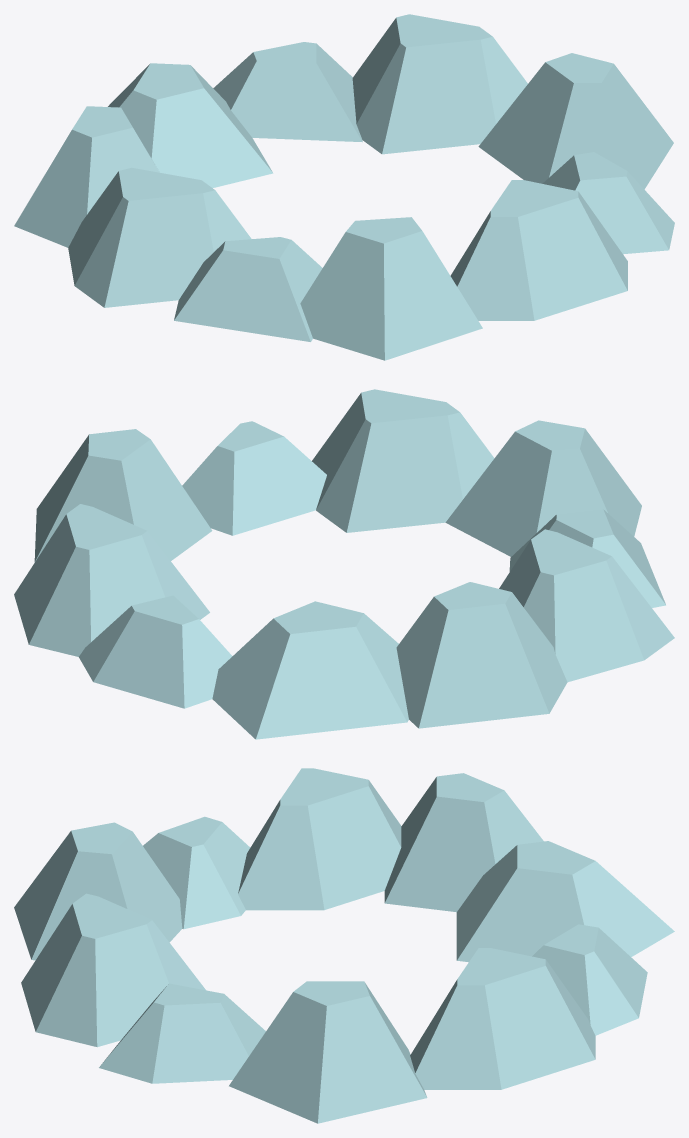
Rendered from campfire_stones.obj.
The picture shows the model from 3 angles, top to bottom: view 1: azimuth 30°, elevation 25°; view 2: azimuth 150°, elevation 25°; view 3: azimuth 270°, elevation 25°; orthographic projection. The views are drawn at different scales.
Size of the model in its own units: 0.5408 by 0.0778 by 0.5155.
